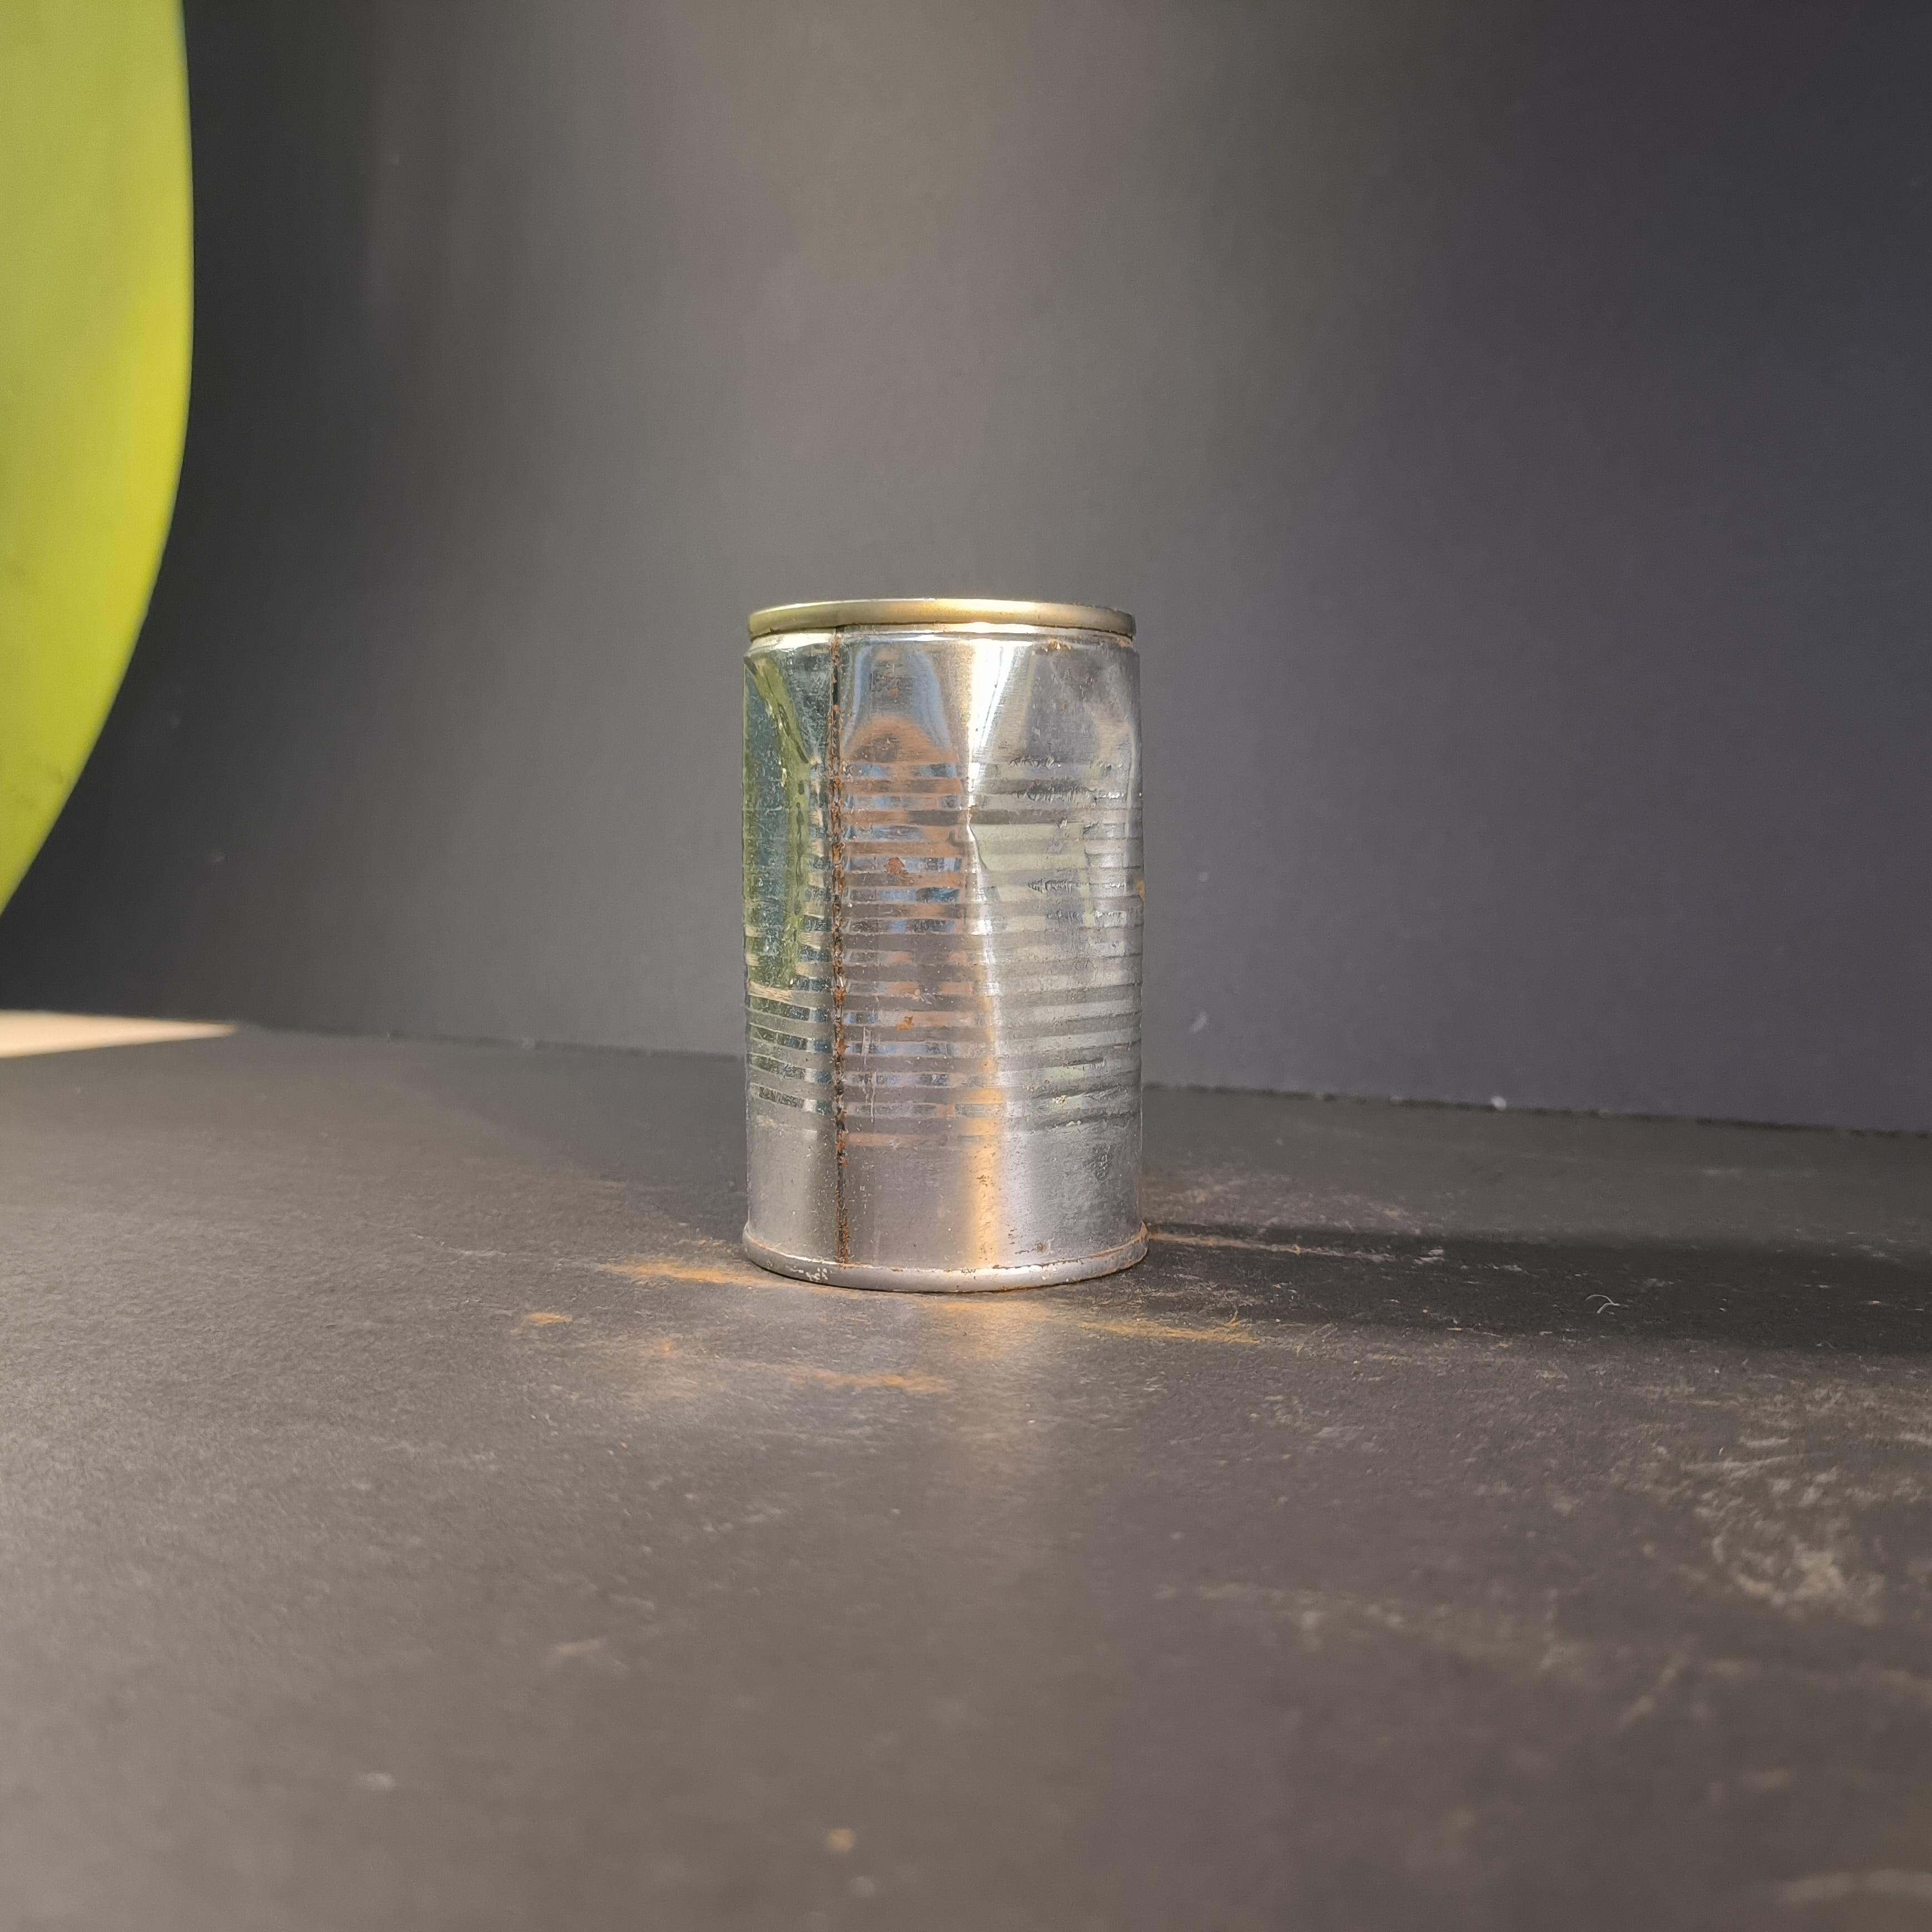Dented: (732, 562, 1177, 1288)
